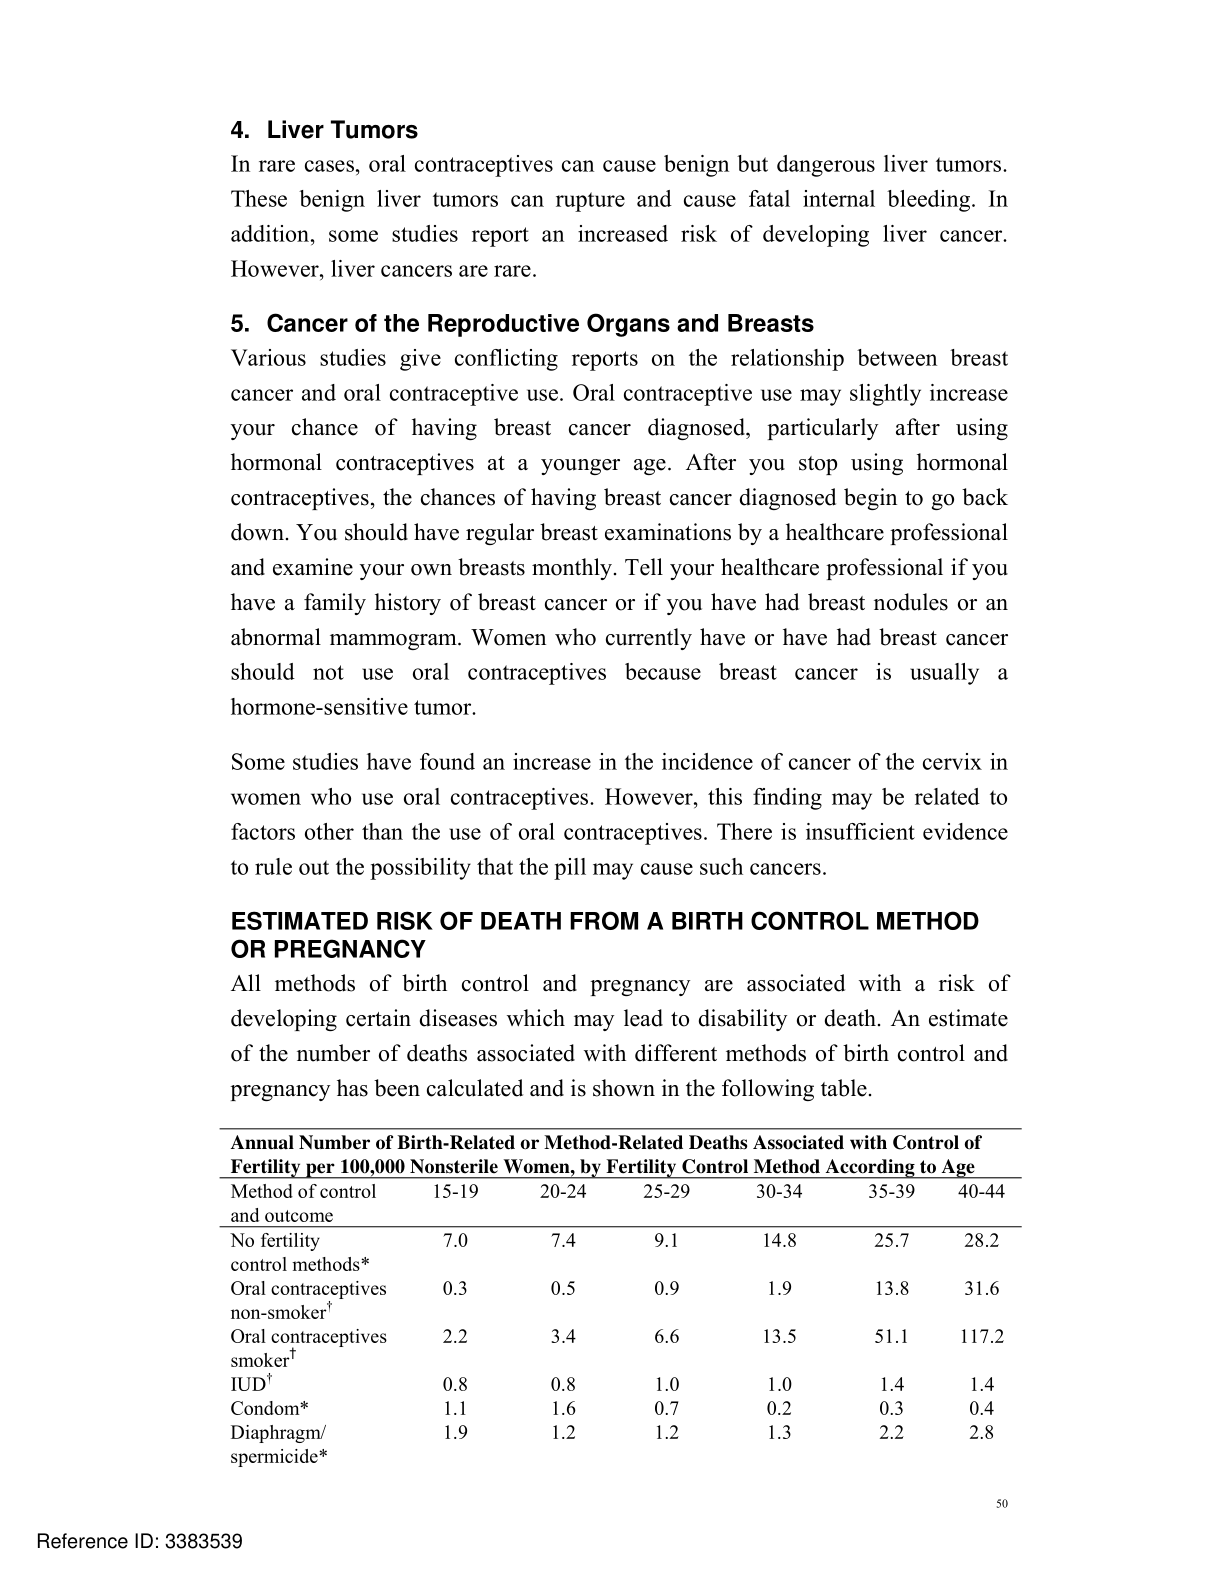partial_lined: (220, 1176, 1025, 1472)
